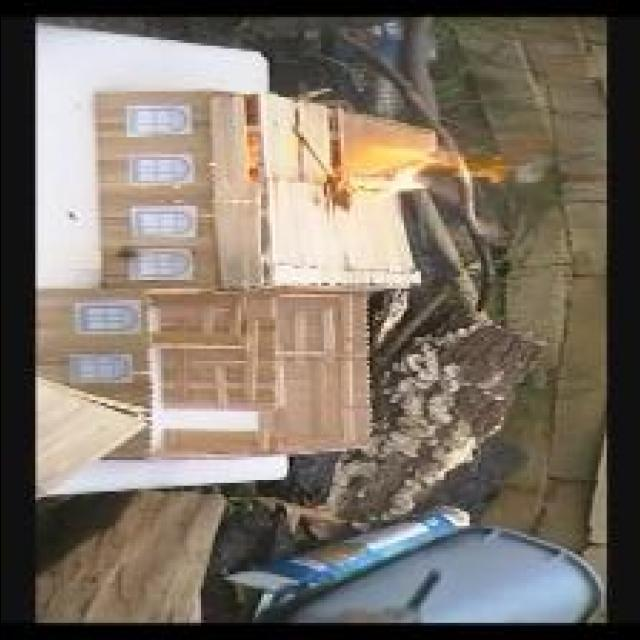Fire: (347, 143, 510, 191)
